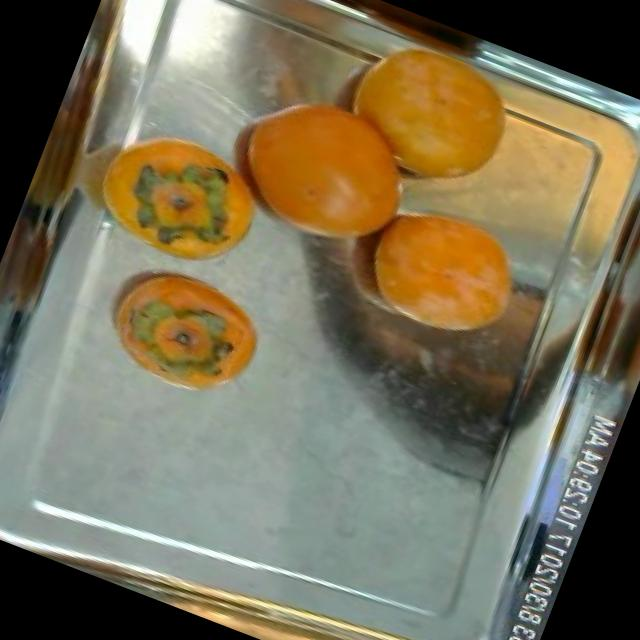Fruit: (334, 177, 575, 378), (80, 103, 293, 284), (84, 242, 286, 422)
